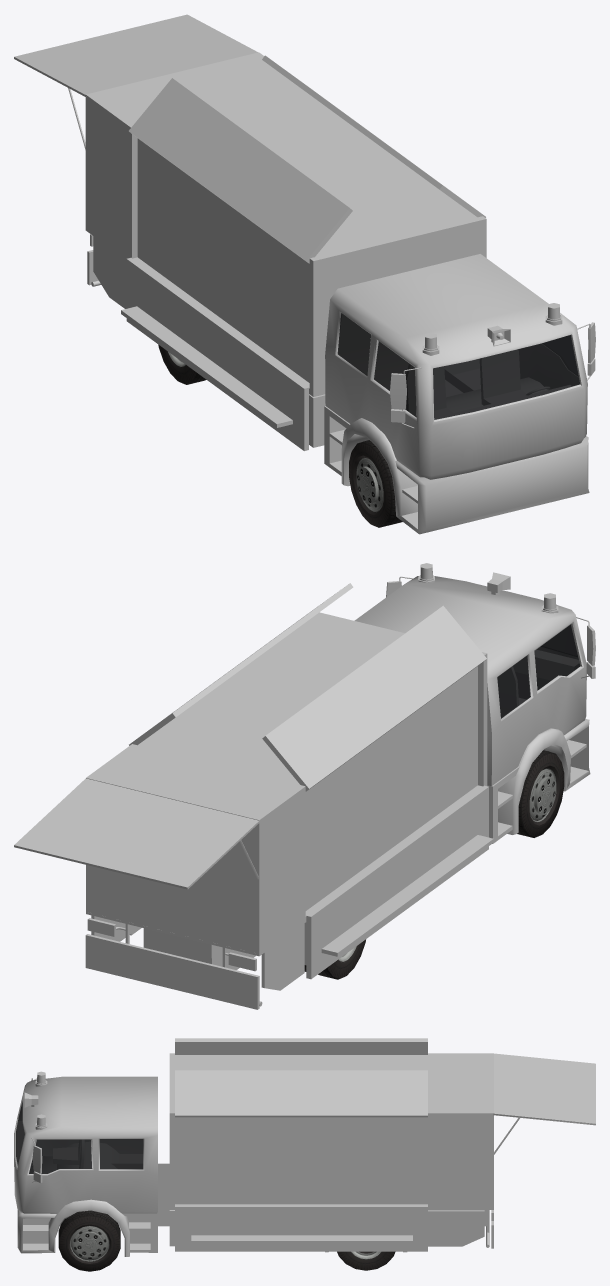
The model's file is Huaxuejiuyuanxiaofangche_mol.FBX.
3 views of the same model, one above another, from view 1: azimuth 30°, elevation 25°; view 2: azimuth 150°, elevation 25°; view 3: azimuth 270°, elevation 25° (orthographic). The views are drawn at different scales.
Visible parts, largest first — view 1: Huaxuejiuyuanxiaofangche, Object03, Huaxuejiuyuanxiaofangche_boli, Huaxuejiuyuanxiaofangche_lunzi01, Huaxuejiuyuanxiaofangche_lunzi; view 2: Huaxuejiuyuanxiaofangche, Object03, Huaxuejiuyuanxiaofangche_boli, Huaxuejiuyuanxiaofangche_lunzi01, Huaxuejiuyuanxiaofangche_lunzi; view 3: Huaxuejiuyuanxiaofangche, Object03, Huaxuejiuyuanxiaofangche_boli, Huaxuejiuyuanxiaofangche_lunzi01, Huaxuejiuyuanxiaofangche_lunzi.
Boxes of the visible parts, bbox=[...] form: Huaxuejiuyuanxiaofangche: bbox=[14, 14, 595, 534]; Object03: bbox=[137, 138, 309, 382]; Huaxuejiuyuanxiaofangche_boli: bbox=[337, 313, 579, 419]; Huaxuejiuyuanxiaofangche_lunzi01: bbox=[349, 440, 402, 527]; Huaxuejiuyuanxiaofangche_lunzi: bbox=[158, 344, 206, 384]; Huaxuejiuyuanxiaofangche: bbox=[14, 563, 595, 1009]; Object03: bbox=[88, 666, 477, 953]; Huaxuejiuyuanxiaofangche_boli: bbox=[497, 624, 580, 718]; Huaxuejiuyuanxiaofangche_lunzi01: bbox=[517, 750, 564, 837]; Huaxuejiuyuanxiaofangche_lunzi: bbox=[304, 939, 365, 979]; Huaxuejiuyuanxiaofangche: bbox=[14, 1038, 595, 1256]; Object03: bbox=[175, 1117, 427, 1204]; Huaxuejiuyuanxiaofangche_boli: bbox=[16, 1101, 143, 1173]; Huaxuejiuyuanxiaofangche_lunzi01: bbox=[58, 1210, 120, 1271]; Huaxuejiuyuanxiaofangche_lunzi: bbox=[337, 1251, 395, 1270].
Bounding box in the file's own units: 2.31 × 7.56 × 2.69.
